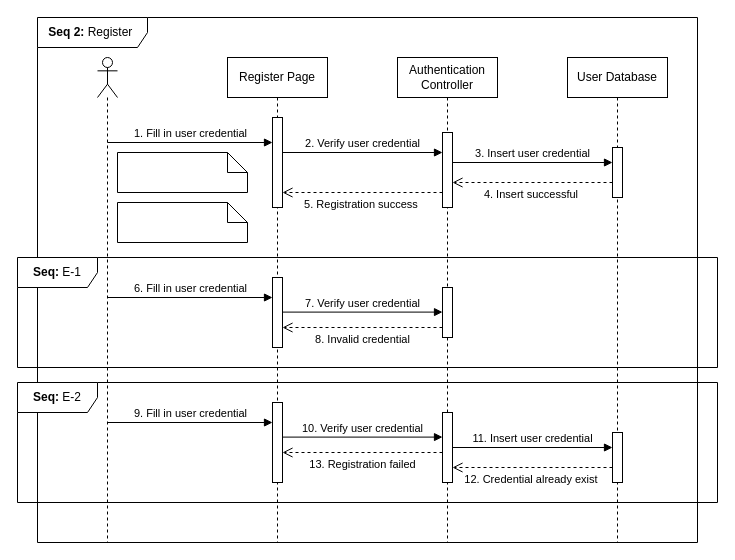
Some shapes in this 735 by 560 pixel diagram are drawn without their labels. Here are the shapes that lost their labels. From the top down, the centre of each, then its label:
the point at 182,172: E-1: Invalid credential
the point at 182,222: E-2: Existing c redential
